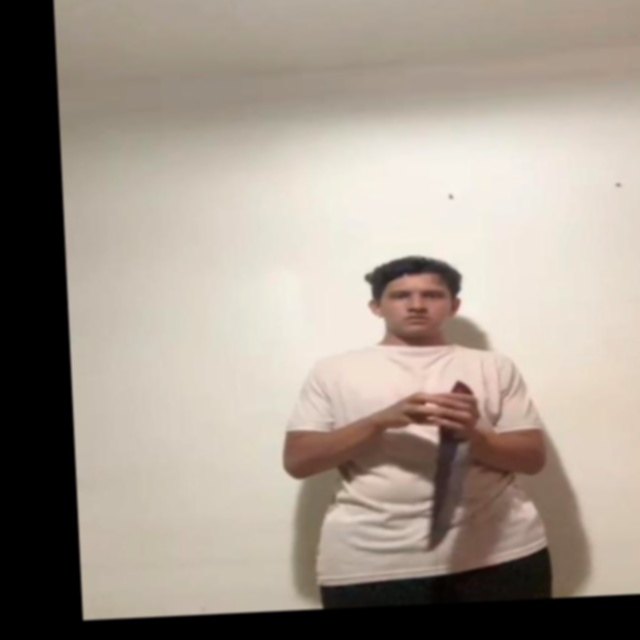Sharp-Object: (423, 438, 476, 550)
